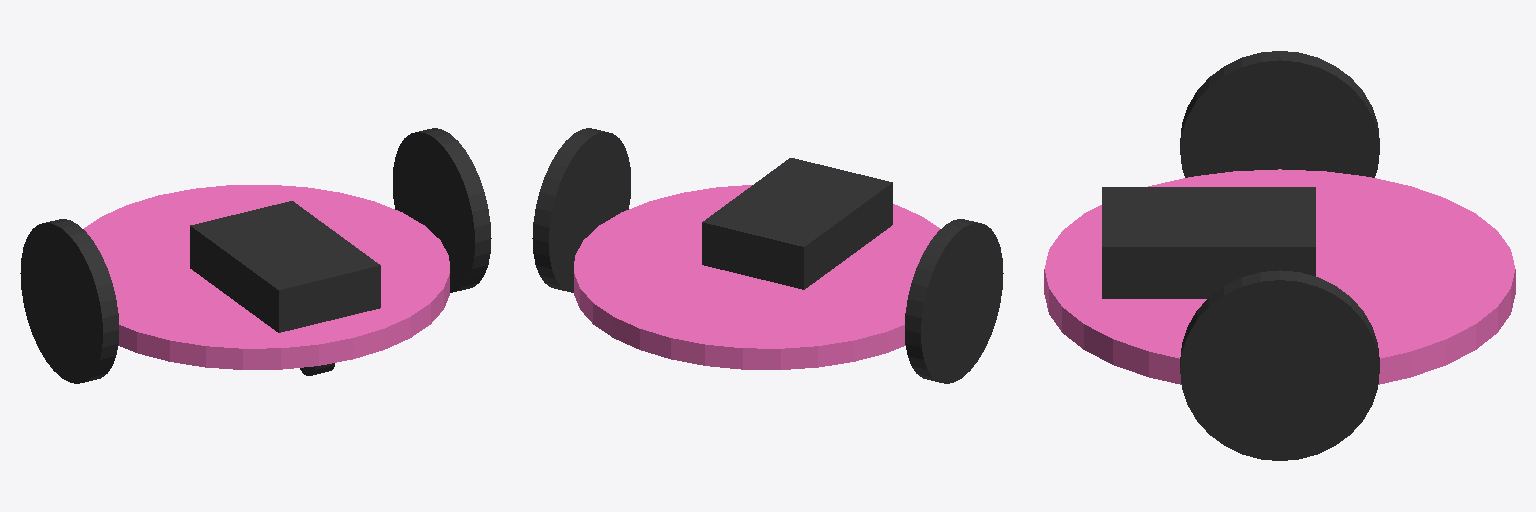
robot.urdf — romi:
<?xml version="1.0"?>
<robot name="romi">

  <material name="pink">
    <color rgba="1 0.5 0.8 1"/>
  </material>
  <material name="darkgrey">
    <color rgba="0.25 0.25 0.25 1"/>
  </material>

  <link name="base_link">
    <visual>
      <geometry>
        <cylinder length="0.01" radius="0.0825"/>
      </geometry>
      <material name="pink"/>
    </visual>
    <collision>
      <geometry>
        <cylinder length="0.01" radius="0.0825"/>
      </geometry>
    </collision>
    <inertial>
      <origin rpy="0 0 0" xyz="0 0 0"/>
      <mass value="1.0"/>
      <inertia ixx="0.001" ixy="0" ixz="0" iyy="0.001" iyz="0" izz="0.001"/>
    </inertial>
  </link>

  <link name="wheel_l">
    <visual>
      <geometry>
        <cylinder length="0.008" radius="0.035"/>
      </geometry>
      <material name="darkgrey"/>
    </visual>
    <collision>
      <geometry>
        <cylinder length="0.008" radius="0.035"/>
      </geometry>
    </collision>
    <!-- contact taken from racecar_differential.urdf -->
    <contact>
      <lateral_friction value="1.0"/>
      <rolling_friction value="0.0"/>
      <stiffness value="300000"/>
      <damping value="1000"/>
    </contact>
    <inertial>
      <origin rpy="0 0 0" xyz="0 0 0"/>
      <mass value="0.1"/>
      <inertia ixx="0.0001" ixy="0" ixz="0" iyy="0.0001" iyz="0" izz="0.0001"/>
    </inertial>
  </link>
  <joint name="wheel_l_joint" type="continuous">
    <parent link="base_link"/>
    <child link="wheel_l"/>
    <origin rpy="0 1.57 0" xyz="0.091 0 0.01"/>
    <axis xyz="0 0 -1"/>
  </joint>

  <link name="wheel_r">
    <visual>
      <geometry>
        <cylinder length="0.008" radius="0.035"/>
      </geometry>
      <material name="darkgrey"/>
    </visual>
    <collision>
      <geometry>
        <cylinder length="0.008" radius="0.035"/>
      </geometry>
    </collision>
    <!-- contact taken from racecar_differential.urdf -->
    <contact>
      <lateral_friction value="1.0"/>
      <rolling_friction value="0.0"/>
      <stiffness value="300000"/>
      <damping value="1000"/>
    </contact>
    <inertial>
      <origin rpy="0 0 0" xyz="0 0 0"/>
      <mass value="0.1"/>
      <inertia ixx="0.0001" ixy="0" ixz="0" iyy="0.0001" iyz="0" izz="0.0001"/>
    </inertial>
  </link>
  <joint name="wheel_r_joint" type="continuous">
    <parent link="base_link"/>
    <child link="wheel_r"/>
    <origin rpy="0 1.57 0" xyz="-0.091 0 0.01"/>
    <axis xyz="0 0 -1"/>
  </joint>

  <link name="wheel_rear">
    <visual>
      <geometry>
        <cylinder length="0.01" radius="0.009"/>
      </geometry>
      <material name="darkgrey"/>
    </visual>
    <collision>
      <geometry>
        <cylinder length="0.01" radius="0.009"/>
      </geometry>
    </collision>
    <contact>
      <lateral_friction value="0.0"/>
      <rolling_friction value="0.0"/>
      <stiffness value="300000"/>
      <damping value="1000"/>
    </contact>
    <inertial>
      <origin rpy="0 0 0" xyz="0 0 0"/>
      <mass value="0.1"/>
      <inertia ixx="0.0001" ixy="0" ixz="0" iyy="0.0001" iyz="0" izz="0.0001"/>
    </inertial>
  </link>
  <joint name="wheel_rear_joint" type="continuous">
    <parent link="base_link"/>
    <child link="wheel_rear"/>
    <origin rpy="0 1.57 0" xyz="0 -0.05 -0.0152"/>
    <axis xyz="0 0 -1"/>
  </joint>

  <link name="attached_load">
    <visual>
      <geometry>
        <box size="0.05 0.075 0.025"/>
      </geometry>
      <material name="darkgrey"/>
    </visual>
    <collision>
      <geometry>
        <box size="0.05 0.075 0.025"/>
      </geometry>
    </collision>
    <inertial>
      <origin rpy="0 0 0" xyz="0 0 0"/>
      <mass value="1.0"/>
      <inertia ixx="0.001" ixy="0" ixz="0" iyy="0.001" iyz="0" izz="0.001"/>
    </inertial>
  </link>
  <joint name="attached_load_joint" type="fixed">
    <parent link="base_link"/>
    <child link="attached_load"/>
    <origin rpy="0 0 0" xyz="0 -0.025 0.0125"/>
  </joint>


</robot>

--- What the picture shows (computed from the rendered views, not written in the file) ---
3 views of the same robot in one strip: view 1: azimuth 30°, elevation 25°; view 2: azimuth 150°, elevation 25°; view 3: azimuth 270°, elevation 25° (orthographic).
Robot: romi — 5 links, 4 joints (3 continuous, 1 fixed); root link base_link; default pose: all joints at 0.
Visible links, largest first — view 1: base_link, attached_load, wheel_r, wheel_l; view 2: base_link, attached_load, wheel_r, wheel_l; view 3: base_link, wheel_l, attached_load, wheel_r.
Link boxes in pixels (x1,y1,x2,y2): base_link: (84, 185, 449, 369); attached_load: (190, 201, 380, 332); wheel_r: (20, 219, 118, 383); wheel_l: (393, 128, 491, 292); base_link: (574, 185, 939, 369); attached_load: (702, 158, 892, 289); wheel_r: (905, 219, 1003, 383); wheel_l: (532, 128, 630, 292); base_link: (1044, 169, 1515, 384); wheel_l: (1180, 270, 1379, 460); attached_load: (1102, 187, 1315, 298); wheel_r: (1180, 51, 1379, 177).
Size in the robot's own frame: 0.1901 by 0.165 by 0.07 metres.
Geometry: primitives only (box / cylinder / sphere), no mesh files.